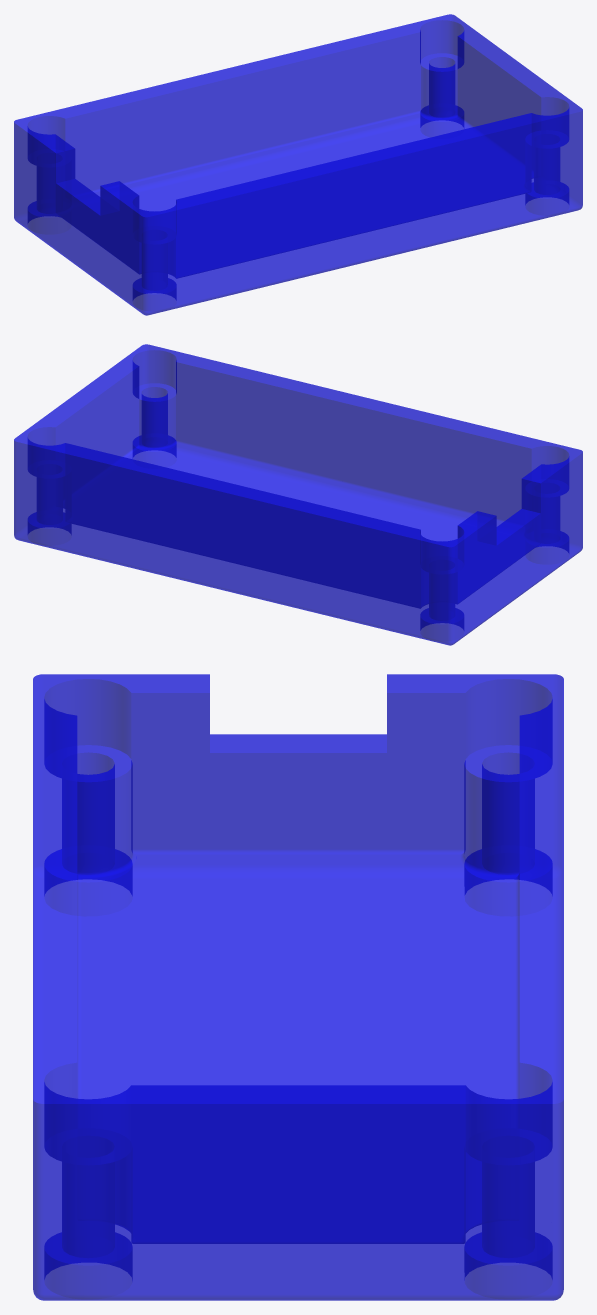
Rendered from part 3 buttom cover.fbx.
3 views of the same model, one above another, from view 1: azimuth 30°, elevation 25°; view 2: azimuth 150°, elevation 25°; view 3: azimuth 270°, elevation 25° (orthographic). The views are drawn at different scales.
Parts seen in each view (by area): view 1: Default; view 2: Default; view 3: Default.
Part boxes in pixels (x1,y1,x2,y2): Default: (14,14,582,315); Default: (14,344,582,645); Default: (33,674,563,1300).
Size of the model in its own units: 23 by 5 by 12.
